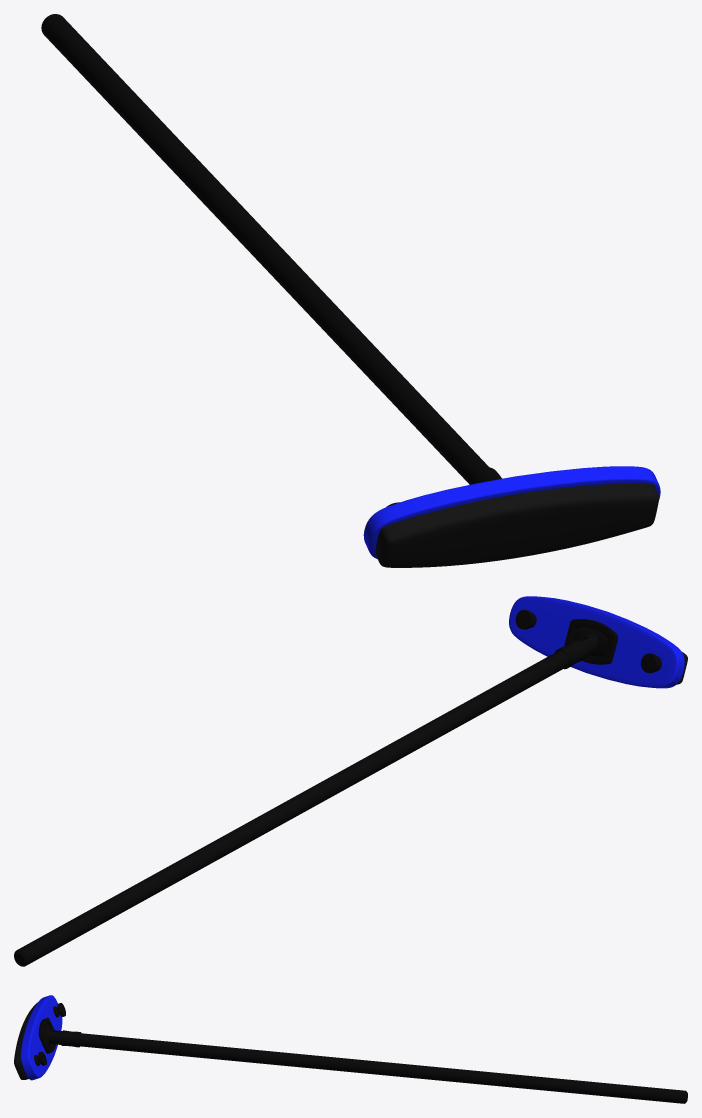
File: Viper blue saperate.FBX
3 views of the same model, one above another, from view 1: azimuth 30°, elevation 25°; view 2: azimuth 150°, elevation 25°; view 3: azimuth 270°, elevation 25° (orthographic). The views are drawn at different scales.
Visible parts, largest first — view 1: Object003, Object005; view 2: Object005, Object003; view 3: Object005, Object003.
Part boxes in pixels (x1,y1,x2,y2): Object003: (363, 466, 660, 567); Object005: (41, 14, 501, 484); Object005: (14, 633, 597, 966); Object003: (509, 596, 687, 688); Object005: (45, 1029, 687, 1103); Object003: (14, 995, 65, 1080).
Size of the model in its own units: 19.28 by 4.6 by 68.15.
